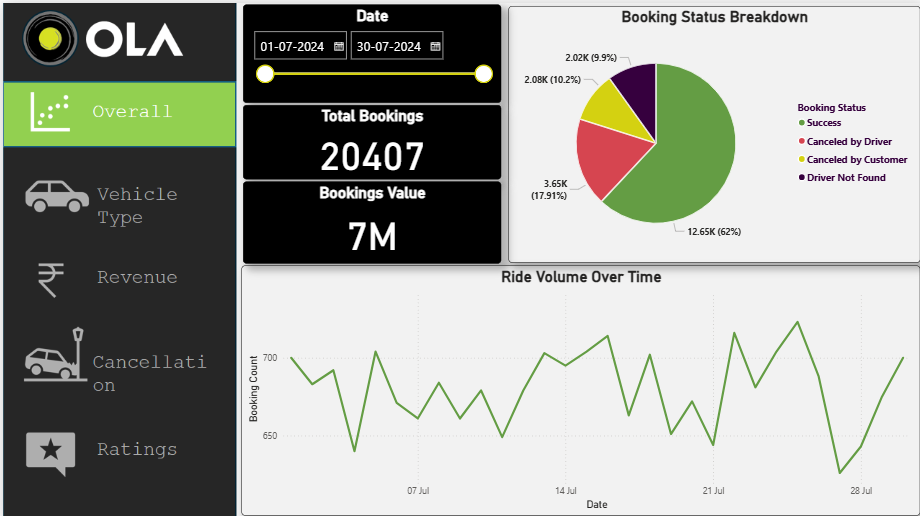

The dashboard page shown, as its layout file describes it:
{"tool":"powerbi","page":{"name":"Overall","canvas":[1280,720],"ordinal":0},"visuals":[{"type":"actionButton","box":[0,228.1,324.6,93],"z":0},{"type":"actionButton","box":[0,336.8,324.6,93],"z":1000},{"type":"actionButton","box":[0,456.1,324.6,93],"z":2000},{"type":"actionButton","box":[0,575.4,324.6,93],"z":3000},{"type":"actionButton","box":[0,110.5,324.6,89.5],"z":4000},{"type":"lineChart","title":"Ride Volume Over Time","fields":{"Y":["CountNonNull(July (2).Booking_ID)"],"Category":["July (2).Date"]},"box":[330.7,365,942.9,347.1],"z":5000},{"type":"pieChart","title":"Booking Status Breakdown","fields":{"Category":["July (2).Booking_Status"],"Series":["July (2).Booking_Status"],"Y":["CountNonNull(July (2).Booking_Status)"]},"box":[701.7,3.3,571.7,356.7],"z":6000},{"type":"slicer","title":"Date","fields":{"Values":["July (2).Date"]},"box":[333.3,1.7,358.3,136.7],"z":7000},{"type":"card","title":"Total Bookings","fields":{"Values":["CountNonNull(July (2).Booking_ID)"]},"box":[333.3,141.7,358.3,103.3],"z":8000},{"type":"card","title":"Bookings Value","fields":{"Values":["Sum(July (2).Booking_Value)"]},"box":[333.2,247.9,358.6,113.9],"z":9000}]}

Visuals, with their boxes in screenshot pixels (x1, y1, x2, y2), scaled from the page's 1280x720 canvas onto the 920x516 screenshot:
actionButton: 0 163 233 230
actionButton: 0 241 233 308
actionButton: 0 327 233 394
actionButton: 0 412 233 479
actionButton: 0 79 233 143
"Ride Volume Over Time" lineChart: 238 262 915 510
"Booking Status Breakdown" pieChart: 504 2 915 258
"Date" slicer: 240 1 497 99
"Total Bookings" card: 240 102 497 176
"Bookings Value" card: 239 178 497 259
